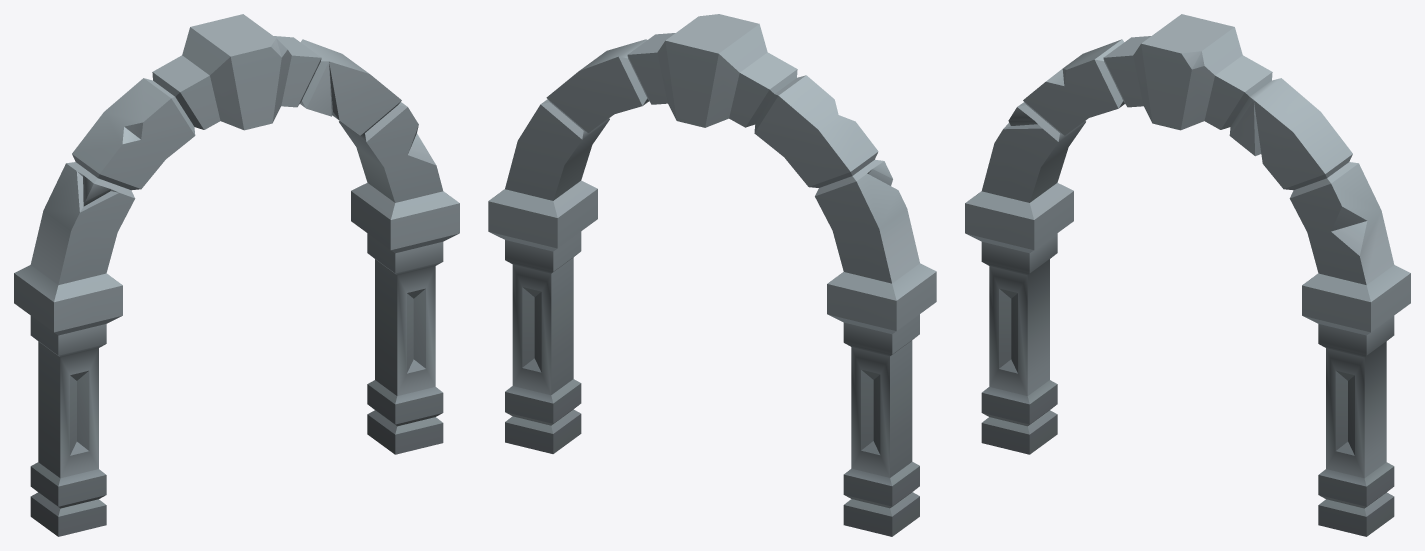
File: d_kaykit_arche.glb
3 views of the same model, side by side, from view 1: azimuth 30°, elevation 25°; view 2: azimuth 150°, elevation 25°; view 3: azimuth 330°, elevation 25° (orthographic).
Visible parts, largest first — view 1: d_kaykit_arche; view 2: d_kaykit_arche; view 3: d_kaykit_arche.
Part boxes in pixels (x1,y1,x2,y2): d_kaykit_arche: (14,14,459,536); d_kaykit_arche: (488,14,936,536); d_kaykit_arche: (965,14,1410,536).
Bounding box in the file's own units: 4.22 × 4.41 × 0.77.
Materials: 1 (1 with a texture image).
